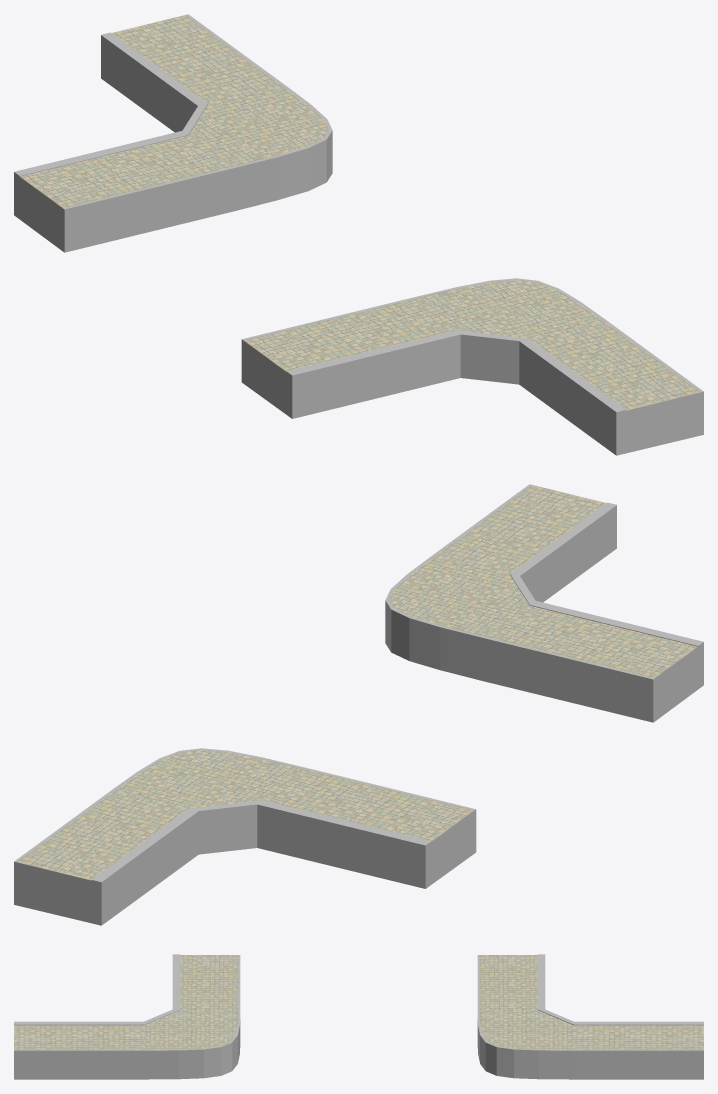
File: road_w01_cr01.fbx
3 views of the same model, one above another, from view 1: azimuth 30°, elevation 25°; view 2: azimuth 150°, elevation 25°; view 3: azimuth 270°, elevation 25° (orthographic). The views are drawn at different scales.
Visible parts, largest first — view 1: road_w01_cr01; view 2: road_w01_cr01; view 3: road_w01_cr01.
Boxes of the visible parts, left/top/right/bottom form: road_w01_cr01: left=14, top=14, right=703, bottom=455; road_w01_cr01: left=14, top=484, right=703, bottom=925; road_w01_cr01: left=14, top=954, right=703, bottom=1079.
Bounding box in the file's own units: 15.75 × 2.26 × 48.
